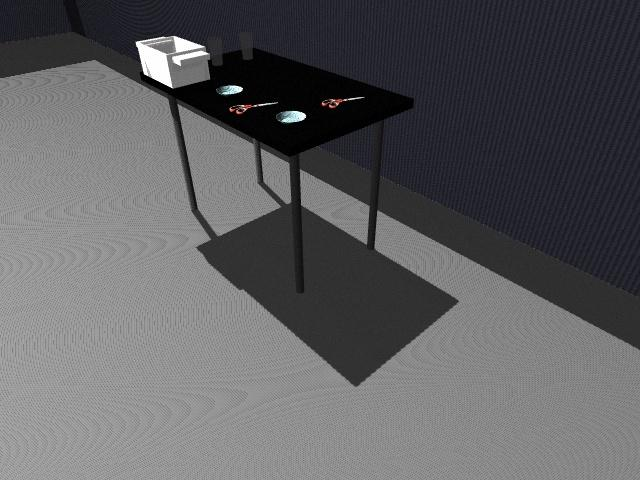cup: (207, 36, 223, 66), (238, 32, 254, 60)
plate: (274, 109, 310, 125), (216, 84, 243, 95)
scissors: (227, 99, 277, 114), (323, 96, 363, 108)
